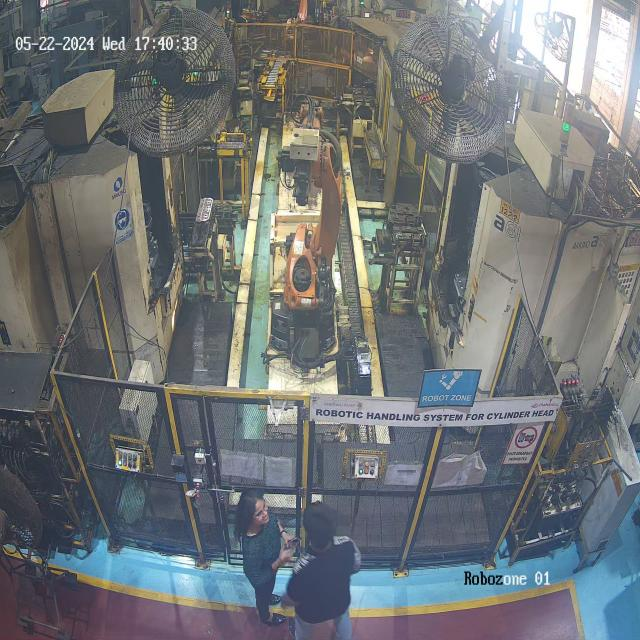person: (282, 497, 379, 636), (225, 482, 296, 640)
